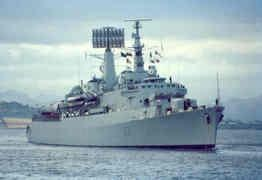warship: (27, 14, 228, 148)
